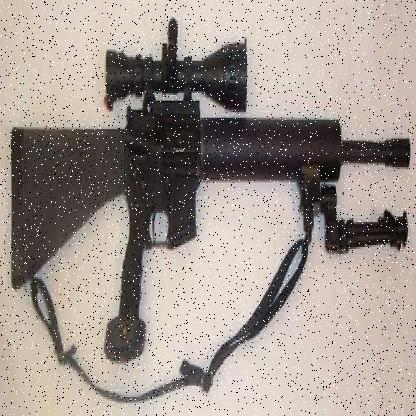rifle: (6, 21, 413, 376)
